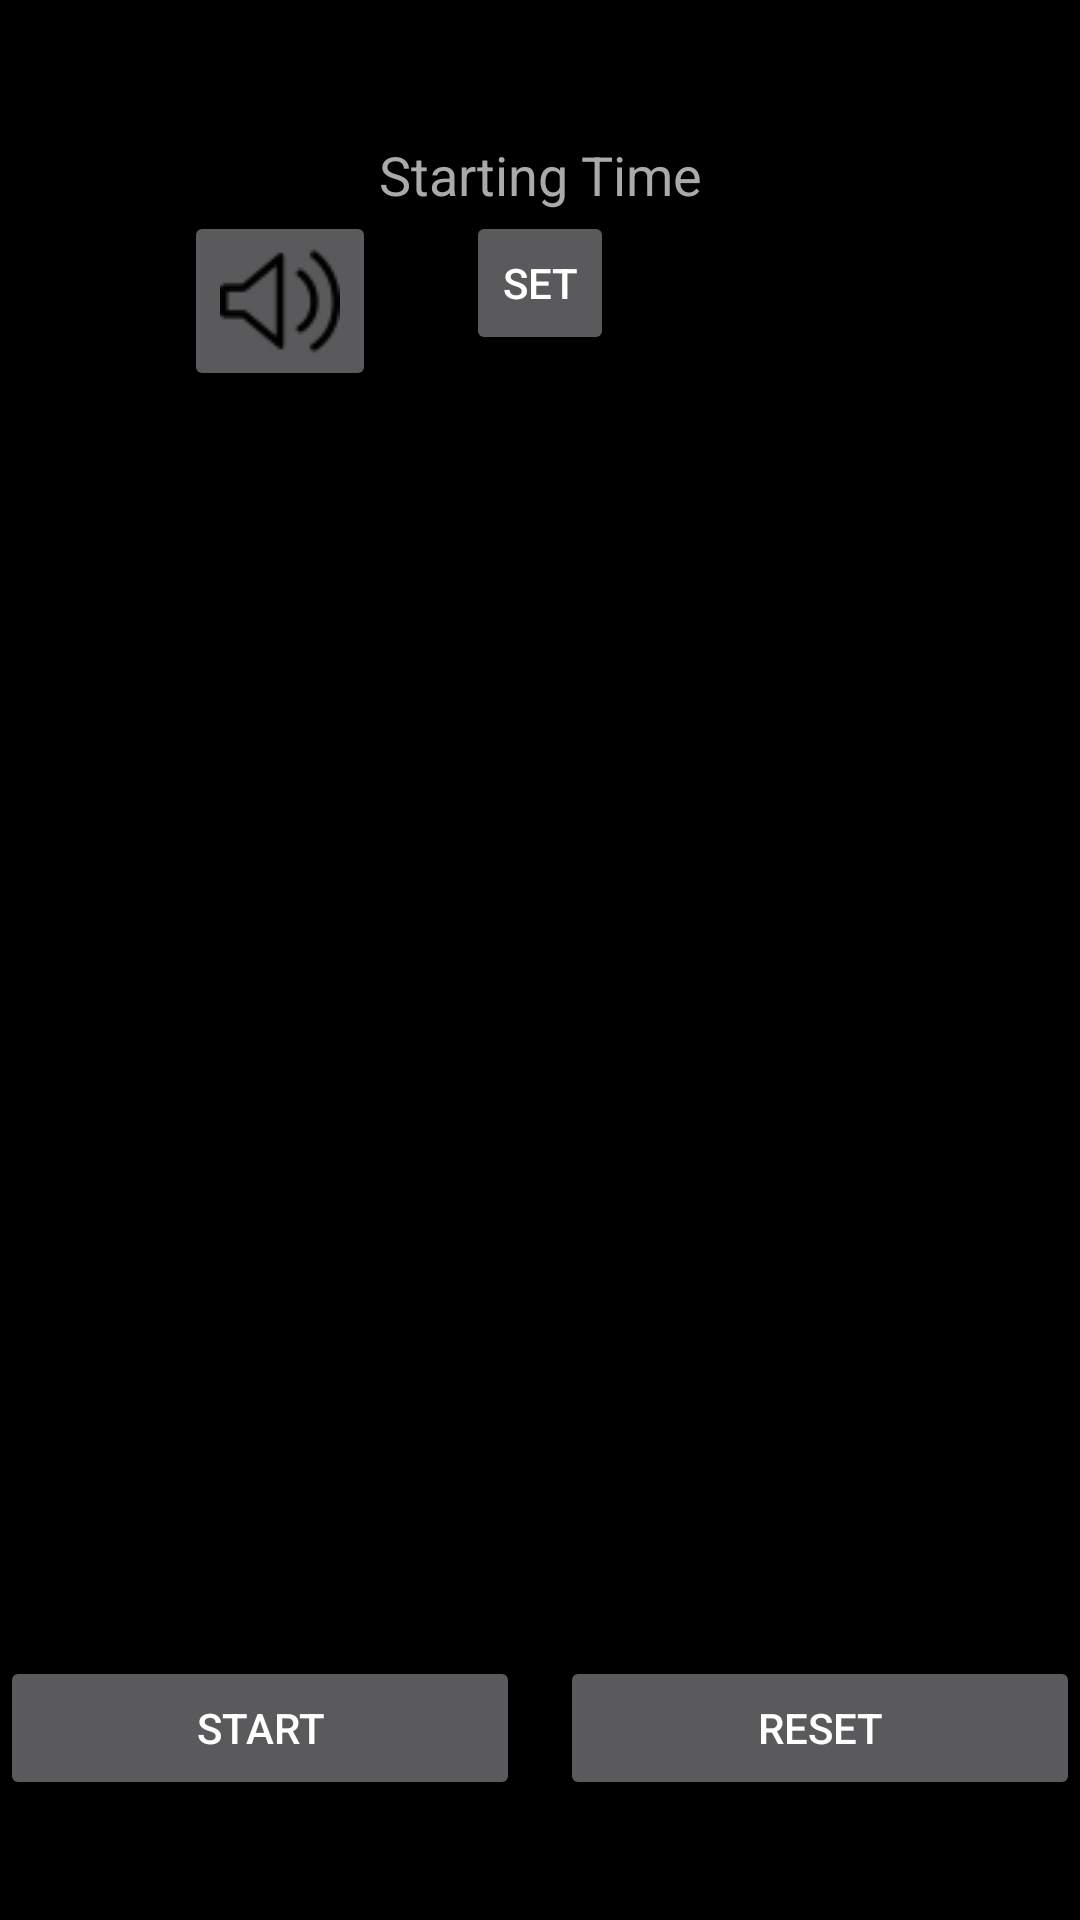

Icons on this 1080*1920 Android screen, each with the point to tap as point (x, y):
speaker: point (280, 301)
